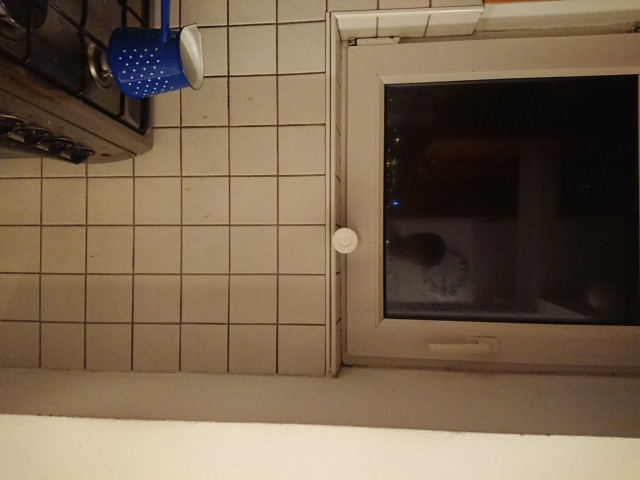Solana Pag Fine Sea Salt 250g: (330, 226, 364, 255)
